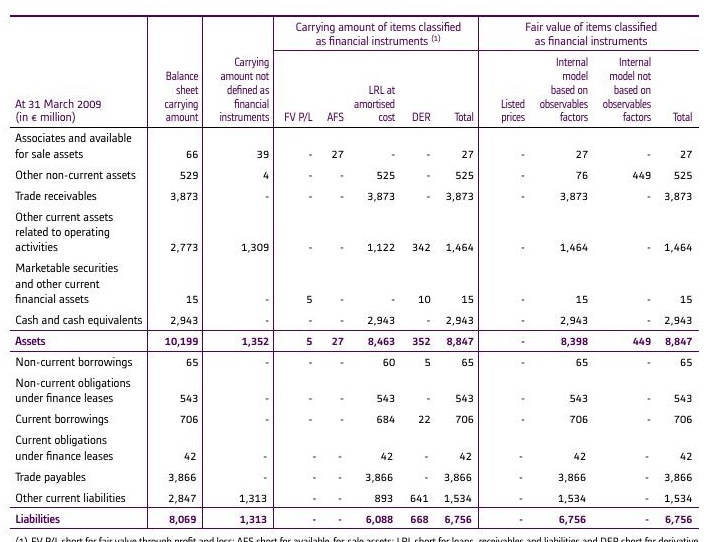table: (0, 0, 714, 542)
